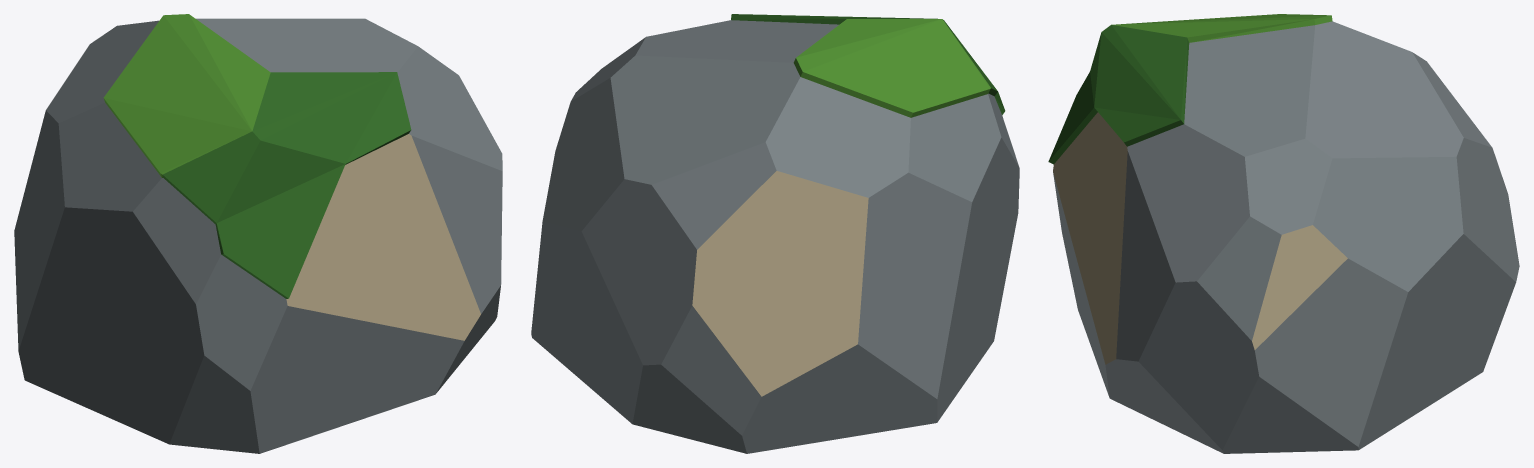
File: field-rock-5e37c6.glb
3 renders of one model, left to right at view 1: azimuth 30°, elevation 25°; view 2: azimuth 150°, elevation 25°; view 3: azimuth 270°, elevation 25°, orthographic. The views are drawn at different scales.
Parts seen in each view (by area): view 1: boulder; view 2: boulder; view 3: boulder.
Part boxes in pixels (left/top/right/bottom): boulder: left=14, top=14, right=502, bottom=453; boulder: left=531, top=14, right=1019, bottom=453; boulder: left=1048, top=14, right=1519, bottom=453.
Bounding box in the file's own units: 1.05 × 0.7652 × 1.03.
